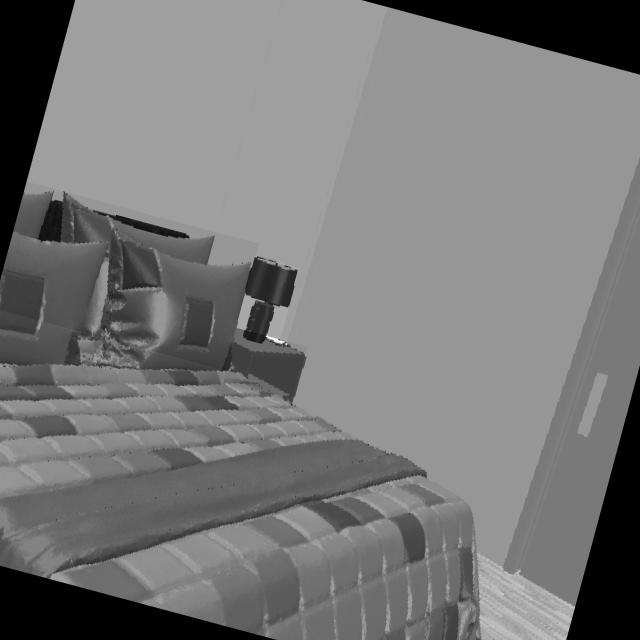bed: (0, 340, 480, 640)
lamp: (243, 256, 297, 345)
nighttable: (232, 329, 303, 401)
pillow: (0, 193, 249, 370)
